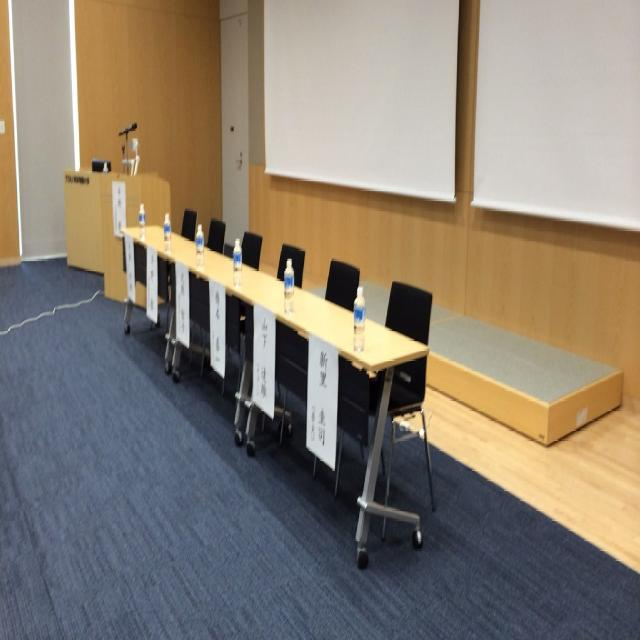chair: (350, 280, 436, 557), (325, 259, 360, 310), (276, 242, 306, 287), (242, 232, 262, 270), (207, 218, 226, 255)
desk: (121, 225, 431, 574)
